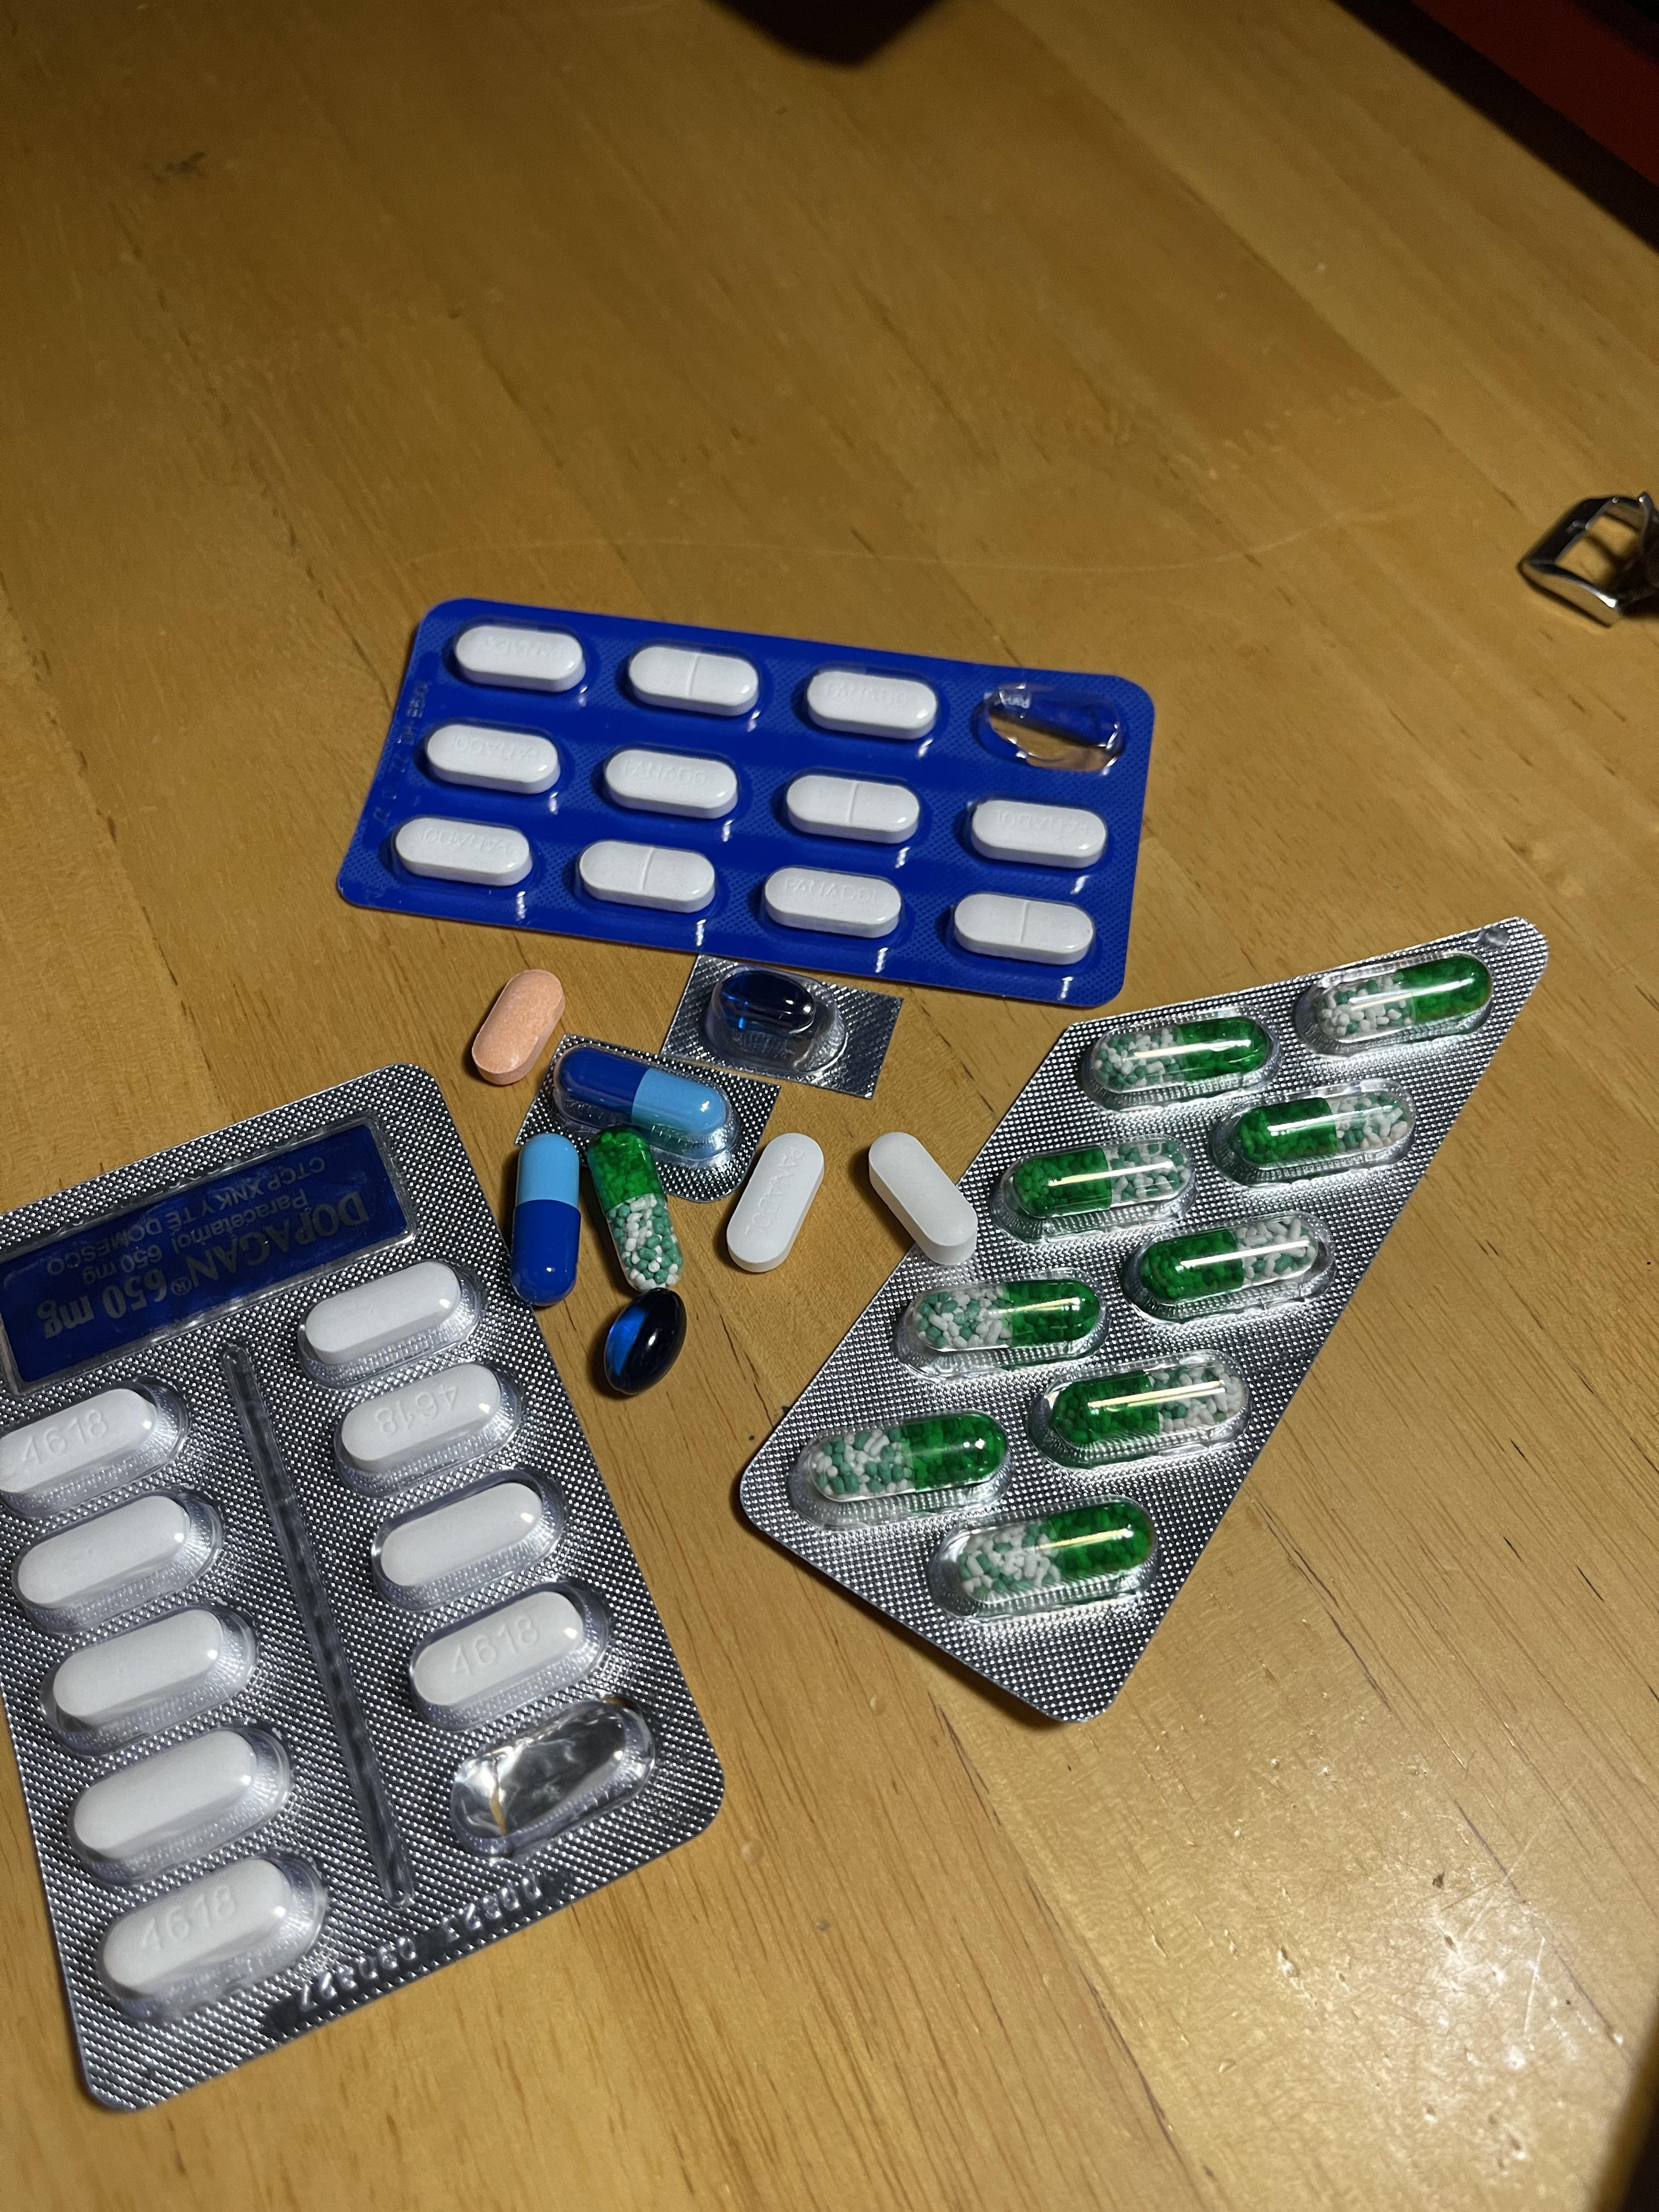Lincomyxin_500mg: (596, 1289, 690, 1399), (714, 968, 821, 1035)
Loratadine_10mg: (471, 970, 568, 1083)
Paracetamol_350mg: (727, 1129, 824, 1268), (953, 890, 1096, 968), (762, 866, 906, 942), (579, 836, 720, 913), (601, 745, 741, 822), (969, 799, 1110, 873), (423, 723, 563, 796), (782, 772, 924, 843), (627, 646, 763, 718), (805, 667, 938, 740), (394, 817, 528, 887), (453, 625, 587, 691)
Paracetamol_500mg: (105, 1860, 288, 1994), (73, 1728, 253, 1858), (410, 1588, 584, 1709), (16, 1498, 186, 1613), (52, 1609, 223, 1724), (378, 1479, 547, 1588), (338, 1366, 504, 1467), (0, 1388, 153, 1496), (301, 1259, 460, 1362), (871, 1134, 983, 1268)
Paracetamol_650mg: (960, 1512, 1141, 1602), (587, 1127, 687, 1289), (817, 1420, 1002, 1505), (1058, 1371, 1225, 1453), (1147, 1223, 1309, 1301), (1007, 1143, 1173, 1219), (918, 1282, 1089, 1355), (1317, 960, 1483, 1035), (1237, 1097, 1394, 1163), (1105, 1021, 1265, 1085)
pill: (558, 1049, 732, 1144), (512, 1137, 582, 1303)
